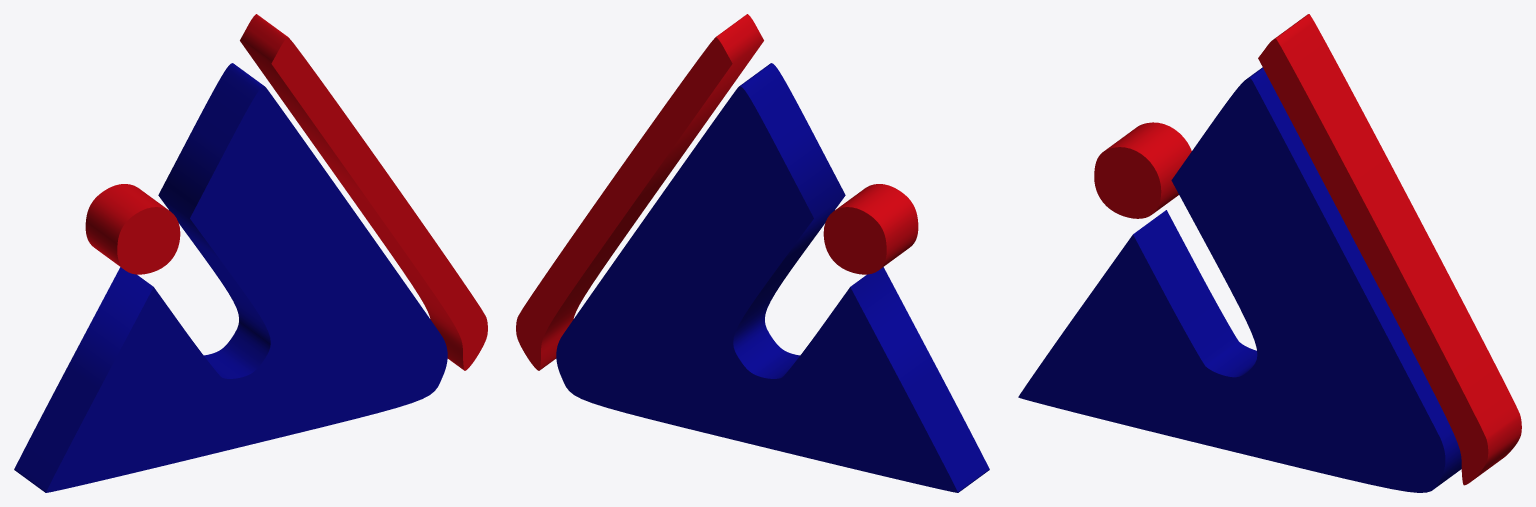
File: unicon_soft_remake.glb
3 views of the same model, side by side, from view 1: azimuth 30°, elevation 25°; view 2: azimuth 150°, elevation 25°; view 3: azimuth 330°, elevation 25° (orthographic). The views are drawn at different scales.
Visible parts, largest first — view 1: Curve.001, Curve, Curve.002; view 2: Curve.001, Curve, Curve.002; view 3: Curve.001, Curve, Curve.002.
Boxes of the visible parts, x1=… form: Curve.001: x1=14, y1=63, x2=447, y2=492; Curve: x1=240, y1=14, x2=487, y2=370; Curve.002: x1=85, y1=184, x2=180, y2=274; Curve.001: x1=556, y1=63, x2=989, y2=492; Curve: x1=516, y1=14, x2=763, y2=370; Curve.002: x1=823, y1=184, x2=918, y2=274; Curve.001: x1=1018, y1=67, x2=1461, y2=492; Curve: x1=1258, y1=14, x2=1521, y2=485; Curve.002: x1=1094, y1=122, x2=1191, y2=218.
Bounding box in the file's own units: 4.39 × 3.78 × 0.5442.
